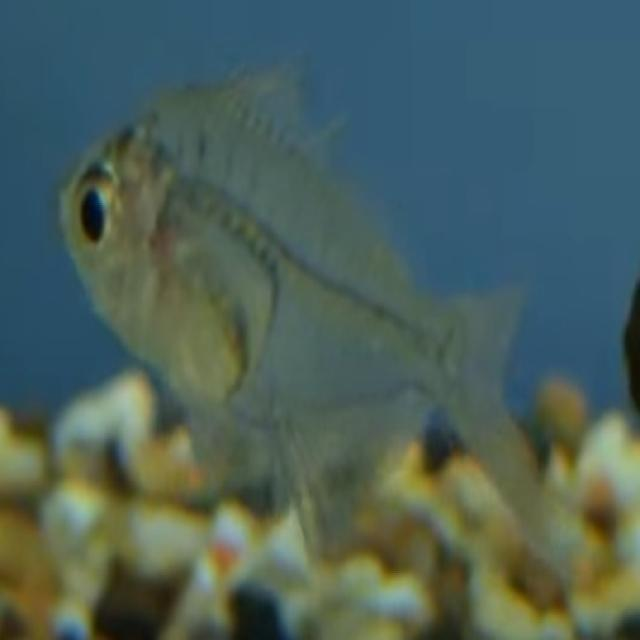Glass-Perchlet: (42, 47, 581, 575)
